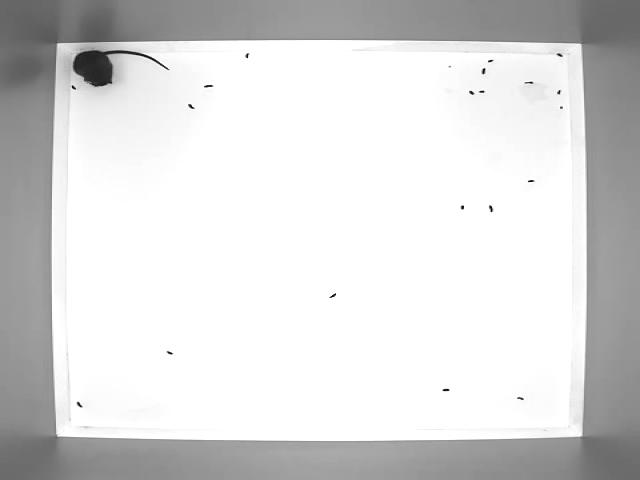Tikus: (66, 44, 176, 92)
